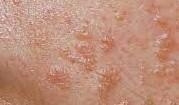flat_wart: (72, 25, 102, 73), (44, 59, 76, 96), (93, 64, 122, 101), (150, 28, 177, 66), (97, 34, 120, 53)
